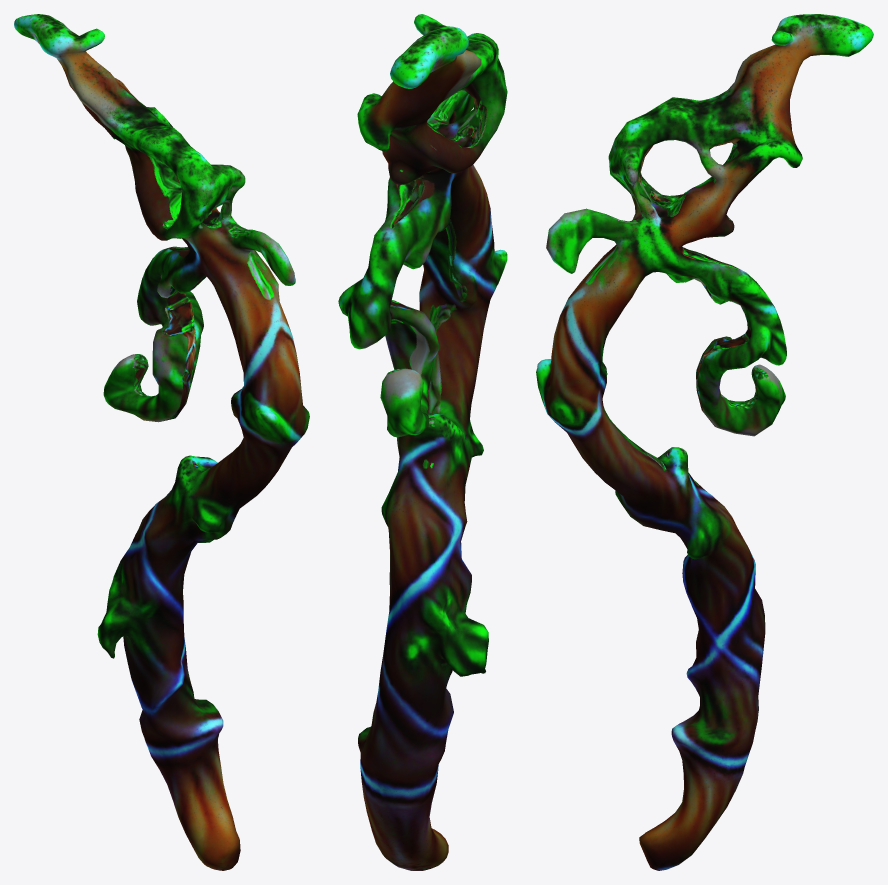
File: glowing_curved_Dr.glb
3 renders of one model, left to right at view 1: azimuth 30°, elevation 25°; view 2: azimuth 150°, elevation 25°; view 3: azimuth 270°, elevation 25°, orthographic. The views are drawn at different scales.
Parts seen in each view (by area): view 1: mesh; view 2: mesh; view 3: mesh.
Boxes of the visible parts, left/top/right/bottom form: mesh: left=14, top=14, right=309, bottom=870; mesh: left=338, top=14, right=507, bottom=870; mesh: left=536, top=14, right=873, bottom=870.
Size of the model in its own units: 0.1893 by 0.9998 by 0.3791.
Materials: 1 (1 with a texture image).
